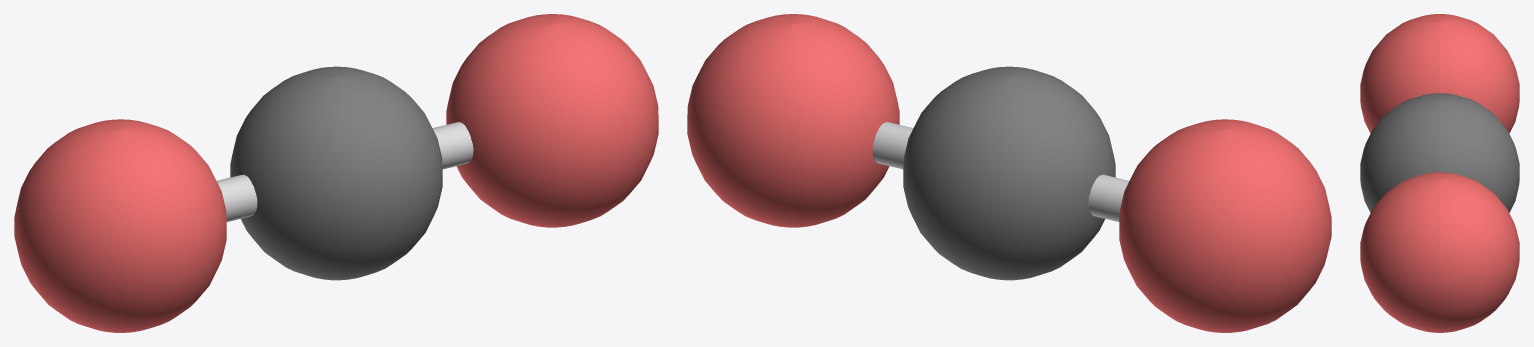
3 renders of one model, left to right at view 1: azimuth 30°, elevation 25°; view 2: azimuth 150°, elevation 25°; view 3: azimuth 270°, elevation 25°, orthographic. The views are drawn at different scales.
Size of the model in its own units: 0.399 by 0.12 by 0.1192.
